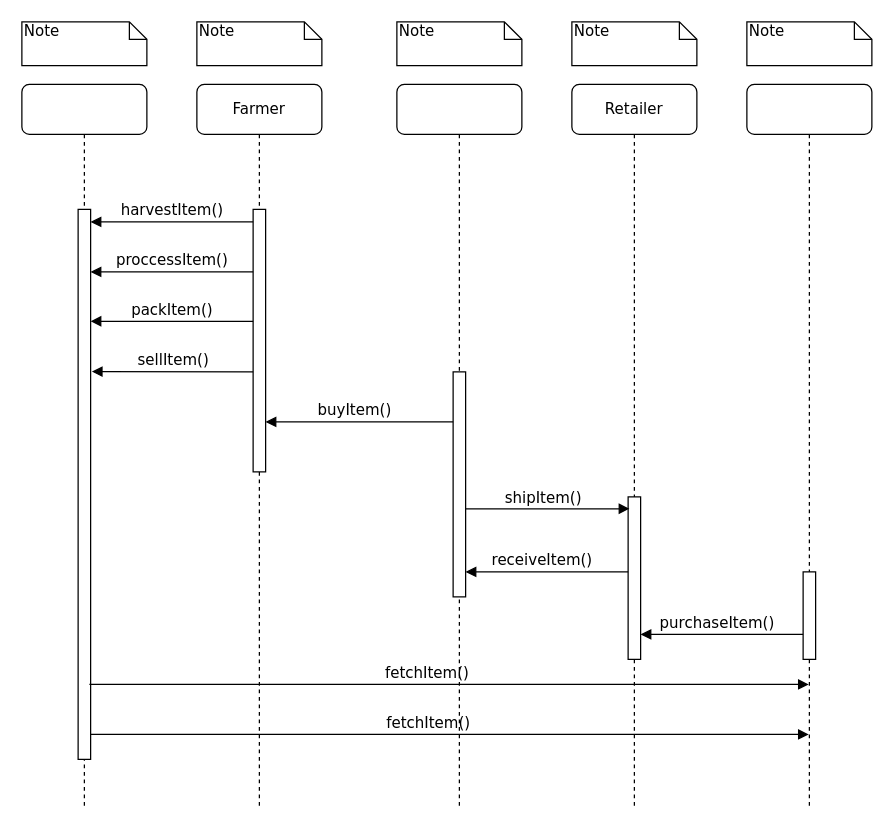
This 894x831 diagram has some shape labels left out. Each missing label, with the box of its shape:
Coffee: (21, 83, 147, 809)
Consumer: (746, 83, 872, 809)
Distributor: (396, 83, 522, 809)
